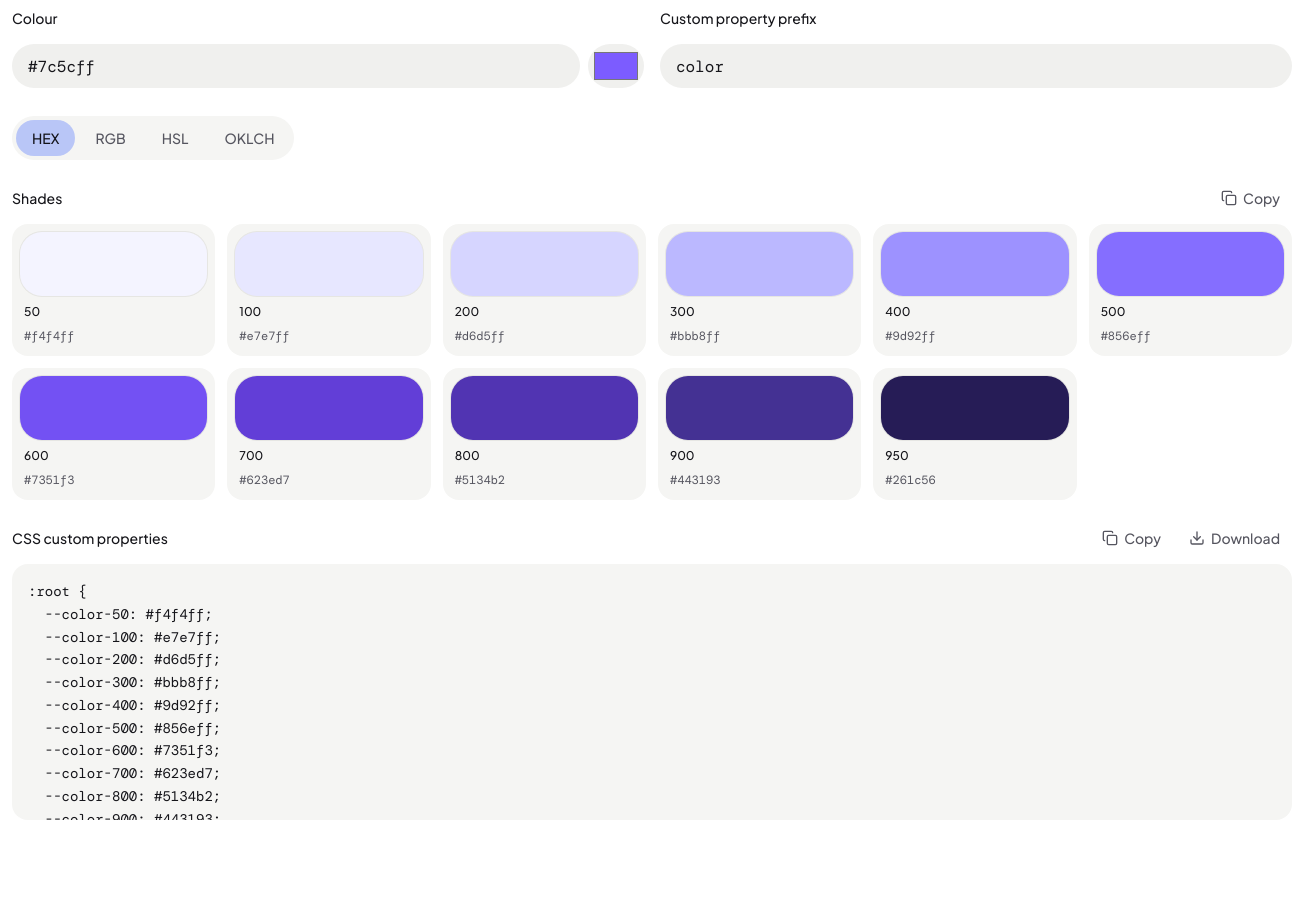
Scenario: <ColorShadesTool /> › should ramp the colour the user enters and write it as CSS
The image size is (1304, 900).
Type "#3b82f6" into the field named "Colour" at (296, 66), box [12,44,580,88]
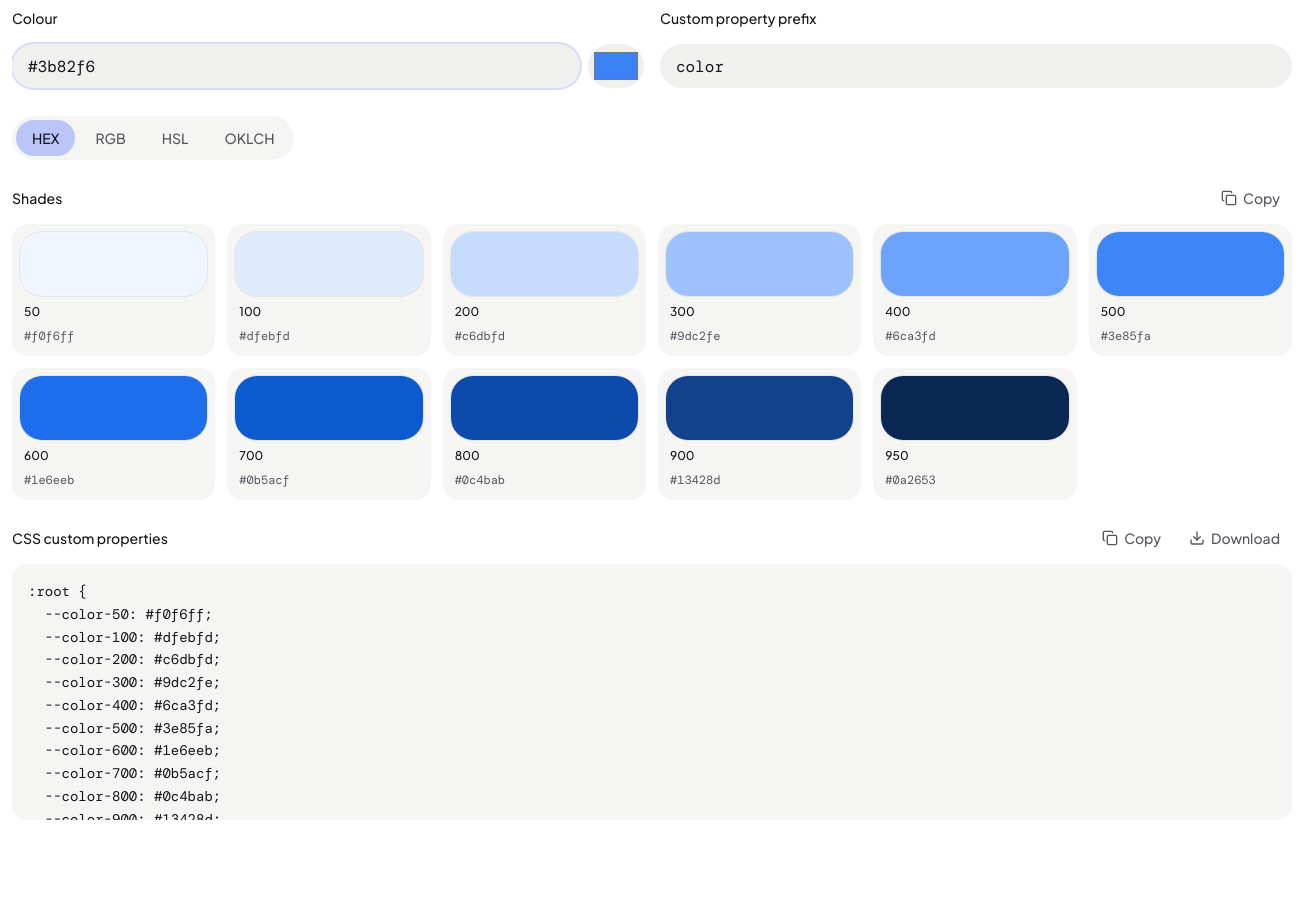
Type "brand" into the field named "Custom property prefix" at (976, 66), box [660,44,1292,88]
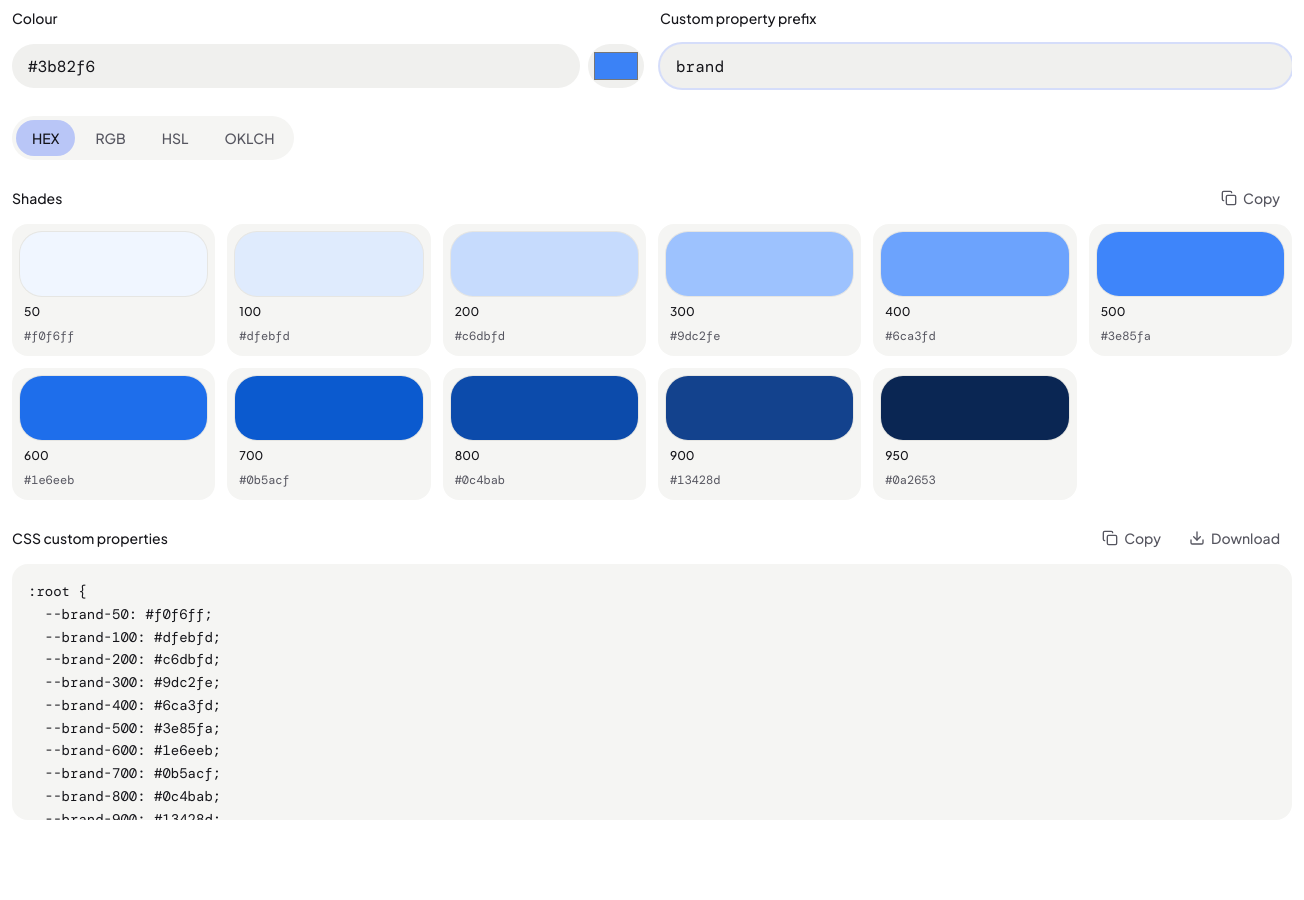
Expected: the text "--brand-950:" is shown, [28,582,221,873]
